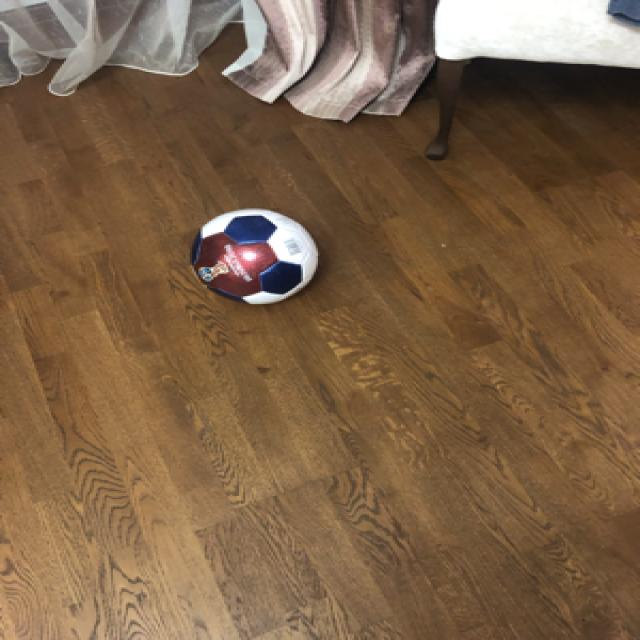soccer_ball: (188, 206, 316, 304)
